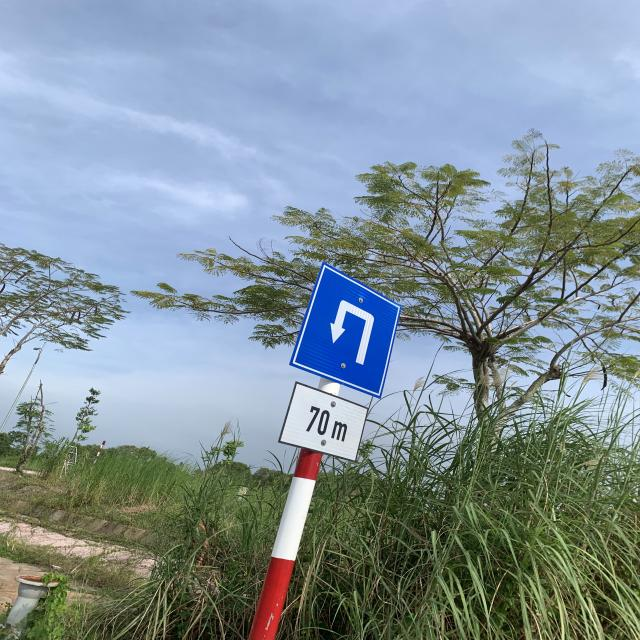Den_Giao_Thong: (290, 263, 406, 397)
